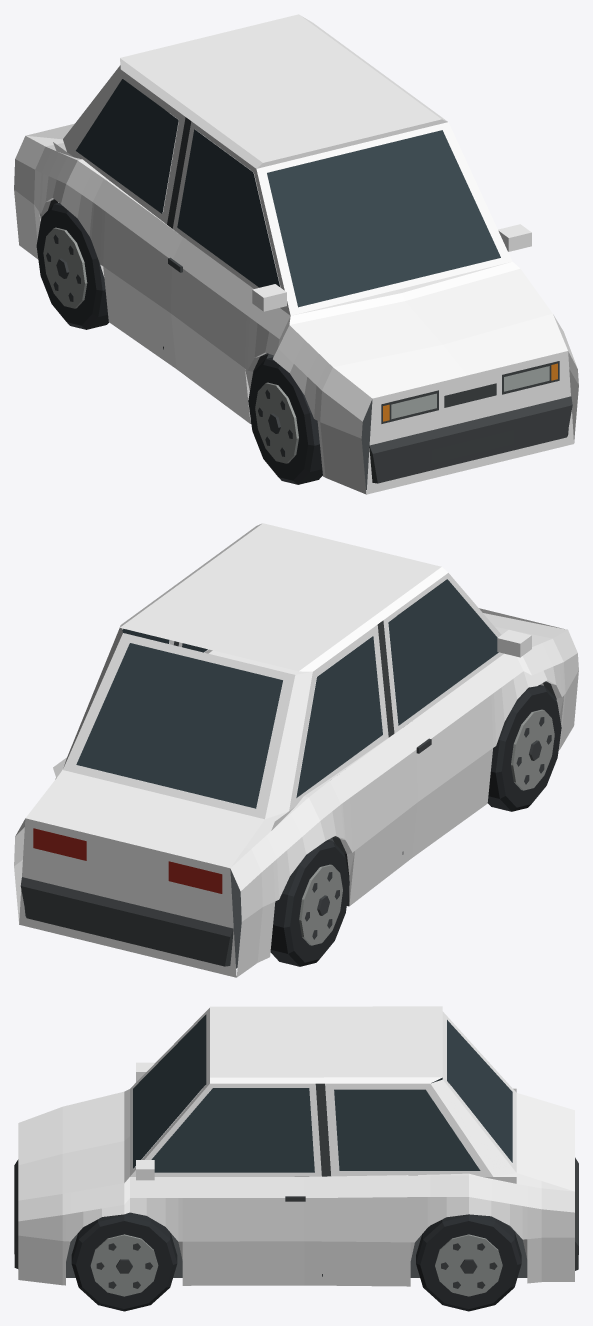
File: kanaya_ruri.glb
3 views of the same model, one above another, from view 1: azimuth 30°, elevation 25°; view 2: azimuth 150°, elevation 25°; view 3: azimuth 270°, elevation 25° (orthographic). The views are drawn at different scales.
Visible parts, largest first — view 1: kanaya_ruri; view 2: kanaya_ruri; view 3: kanaya_ruri.
Boxes of the visible parts, x1,y1,x2,y2 form: kanaya_ruri: [14, 14, 578, 494]; kanaya_ruri: [14, 523, 578, 977]; kanaya_ruri: [14, 1006, 578, 1311].
Size of the model in its own units: 1.62 by 1.57 by 3.64.
Materials: 8 (1 with a texture image).
